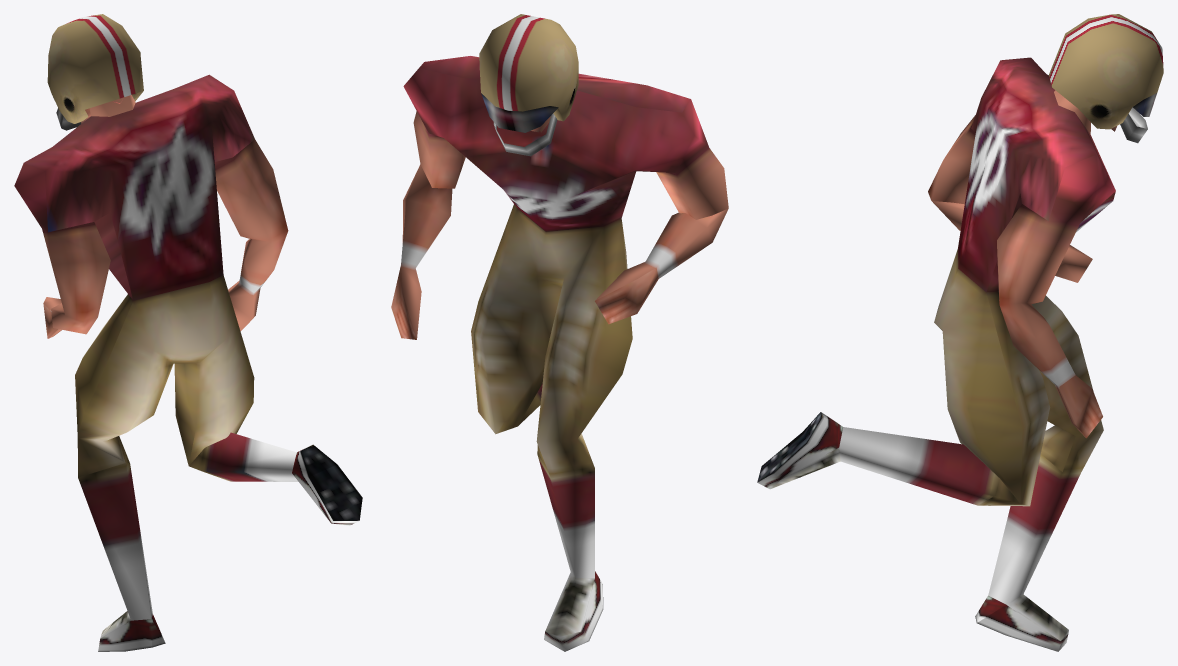
File: view.ico.obj
3 renders of one model, left to right at view 1: azimuth 30°, elevation 25°; view 2: azimuth 150°, elevation 25°; view 3: azimuth 270°, elevation 25°, orthographic. The views are drawn at different scales.
Bounding box in the file's own units: 2.1 × 4.51 × 2.63.
Materials: 1 (1 with a texture image).
